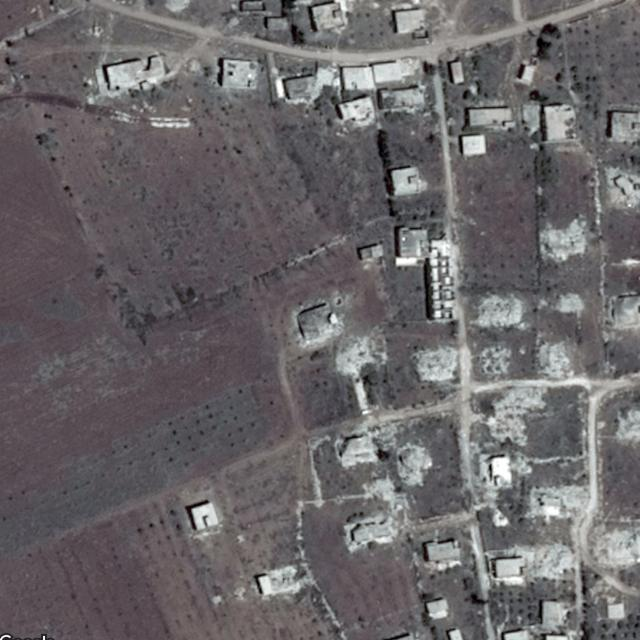damaged_building: (479, 385, 548, 445), (332, 422, 399, 466), (584, 524, 640, 568), (524, 484, 592, 520), (537, 217, 588, 259), (334, 336, 390, 374), (512, 544, 575, 576), (599, 164, 640, 210), (471, 296, 528, 328), (360, 475, 411, 510), (535, 339, 578, 379), (412, 347, 458, 382), (393, 444, 432, 485), (478, 346, 515, 375), (611, 409, 640, 443), (548, 292, 586, 315)
